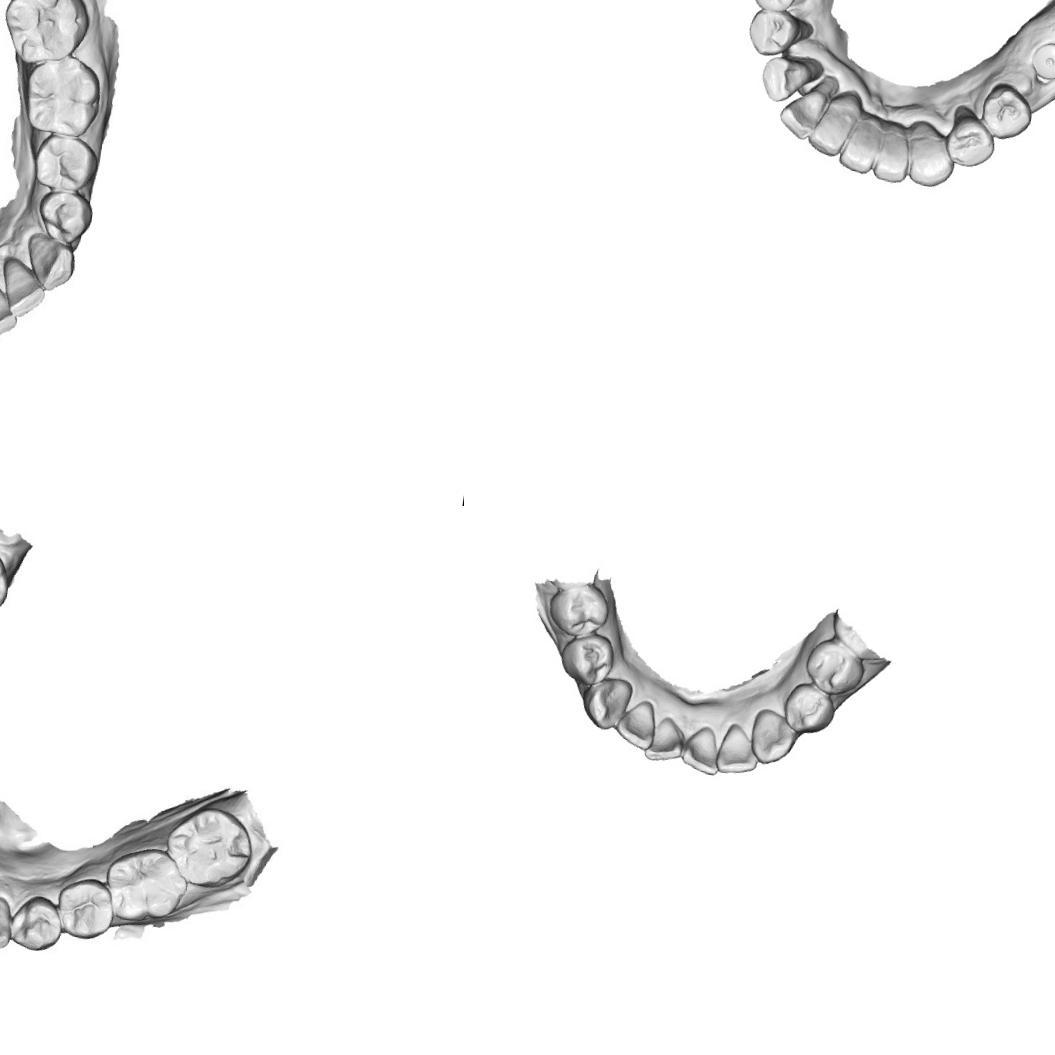canine: (19, 227, 81, 297), (901, 129, 958, 191), (578, 672, 632, 734), (756, 53, 816, 108), (748, 706, 800, 768), (0, 895, 18, 958)
implant: (1028, 39, 1055, 83)
incisor: (774, 83, 830, 146), (0, 249, 50, 319), (804, 98, 854, 160), (712, 720, 764, 778), (836, 116, 883, 178), (677, 722, 725, 779), (870, 130, 916, 187), (612, 695, 658, 752), (643, 708, 688, 766), (0, 279, 19, 334)
molar: (160, 799, 257, 896), (98, 842, 190, 928), (17, 57, 102, 142), (0, 0, 91, 68)
premolar: (53, 873, 118, 947), (30, 130, 98, 195), (801, 637, 869, 700), (545, 580, 614, 641), (976, 78, 1038, 144), (554, 628, 620, 690), (6, 892, 66, 956), (780, 678, 839, 740), (36, 190, 93, 252), (942, 112, 1000, 172), (744, 5, 801, 60), (746, 0, 807, 16)
